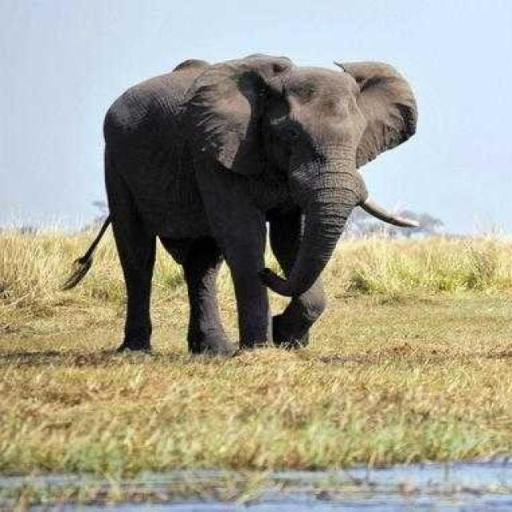Elephant: (58, 52, 420, 356)
